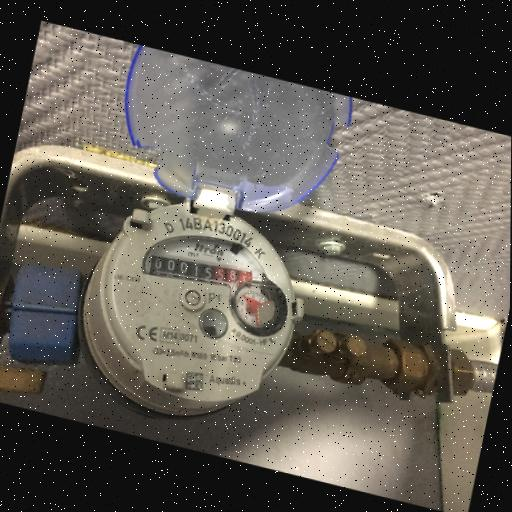0: (163, 257, 179, 275), (152, 254, 166, 273), (176, 259, 190, 277)
1: (188, 261, 202, 280)
5: (212, 265, 228, 283), (237, 268, 254, 284), (200, 262, 214, 281)
8: (224, 267, 242, 285)
border_water_meter_number: (147, 244, 255, 299)
